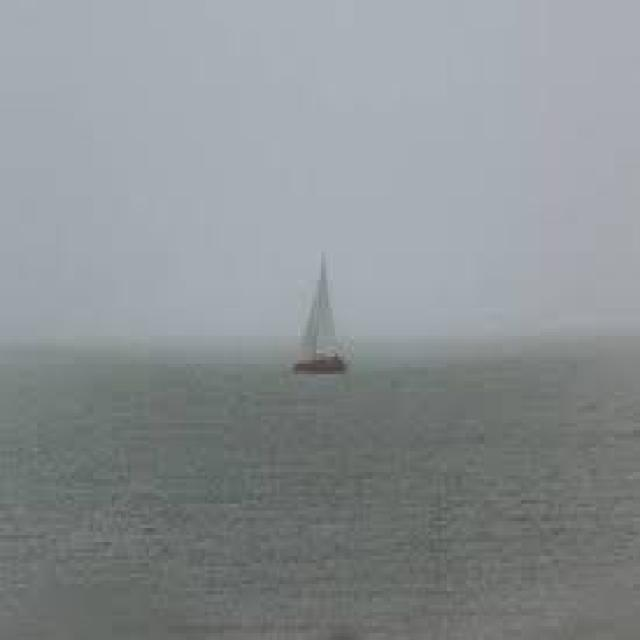sailboat: (279, 252, 346, 371)
